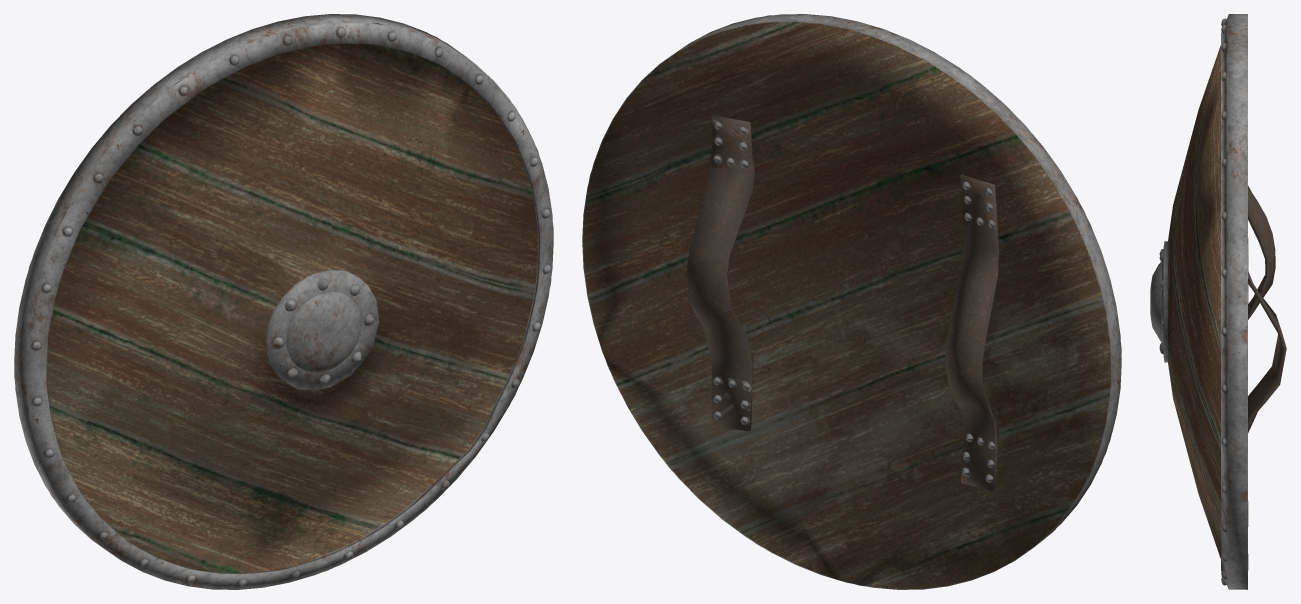
The model's file is parma_shield.glb.
The picture shows the model from 3 angles, left to right: view 1: azimuth 30°, elevation 25°; view 2: azimuth 150°, elevation 25°; view 3: azimuth 270°, elevation 25°; orthographic projection. The views are drawn at different scales.
Parts seen in each view (by area): view 1: Object_4; view 2: Object_4; view 3: Object_4.
Part boxes in pixels (bbox=[...]): Object_4: bbox=[14, 14, 553, 589]; Object_4: bbox=[582, 14, 1121, 589]; Object_4: bbox=[1150, 14, 1286, 589].
Size of the model in its own units: 0.617 by 0.617 by 0.1461.
Materials: 1 (1 with a texture image).
